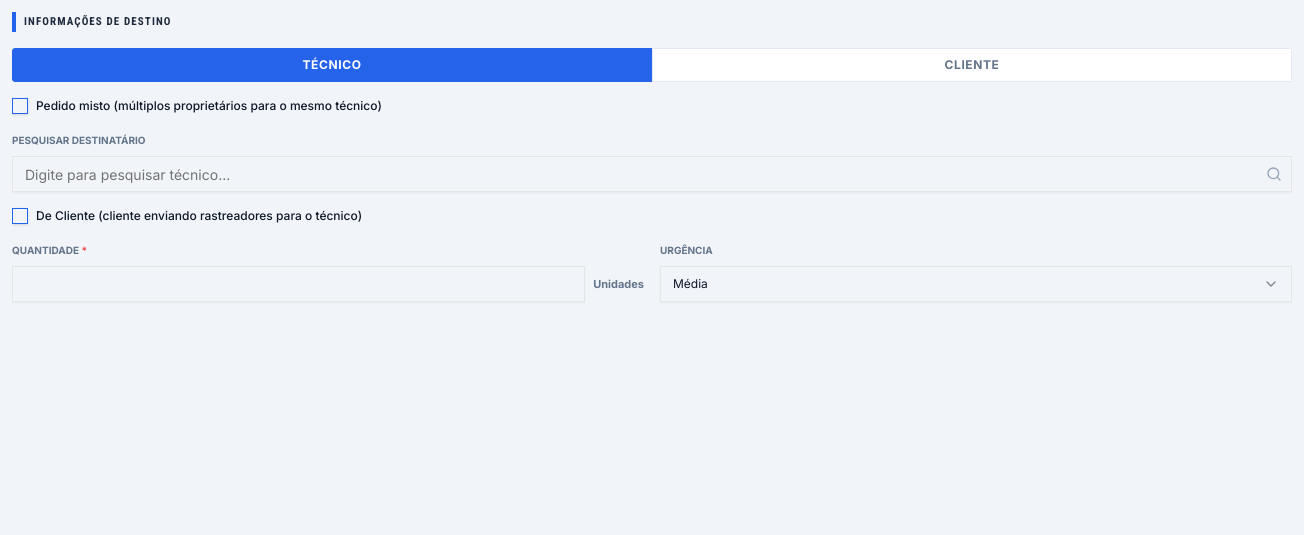
Test: NovoPedidoDestinoSection › modo MISTO: remove bloco Quantidade+Unidades (quantidades ficam por linha mista)
expect the text "Unidades" is shown: met, box [593, 274, 644, 294]
Click the 1st checkbox named "Pedido misto" at (20, 106), box [12, 98, 28, 114]
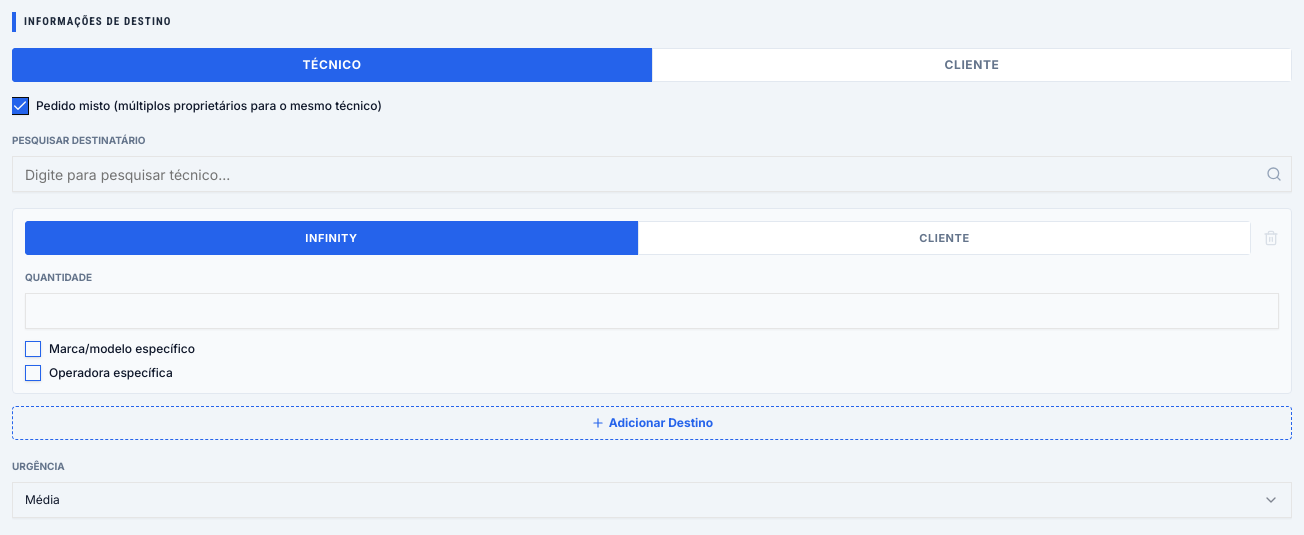
expect the text "Unidades" is gone: met
